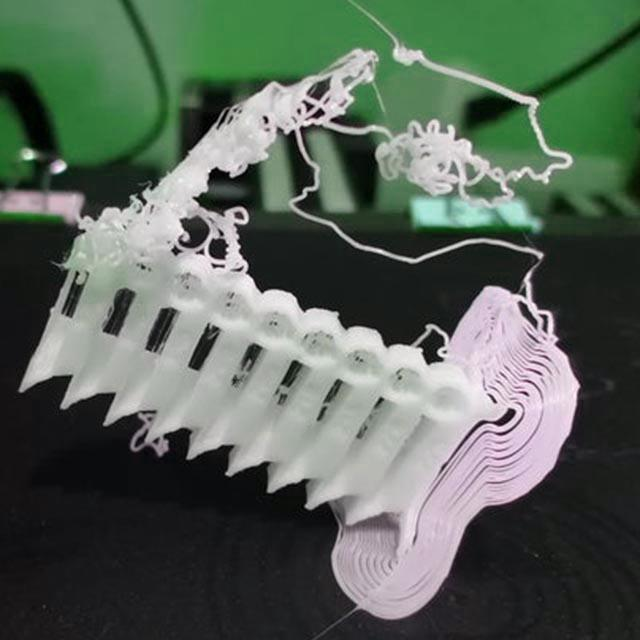spaghetti: (76, 44, 572, 274), (506, 274, 562, 346), (405, 318, 465, 366), (129, 406, 174, 461), (232, 356, 256, 391), (271, 382, 294, 406)
